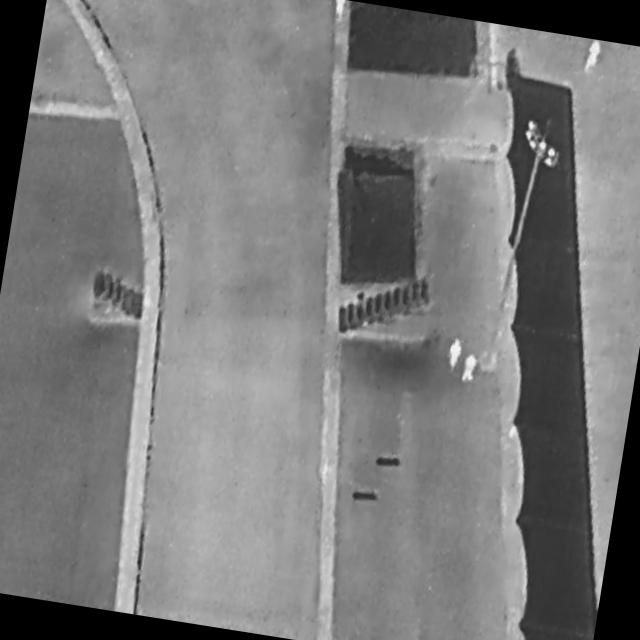person: (583, 40, 604, 76), (446, 335, 465, 372), (461, 353, 480, 385)
